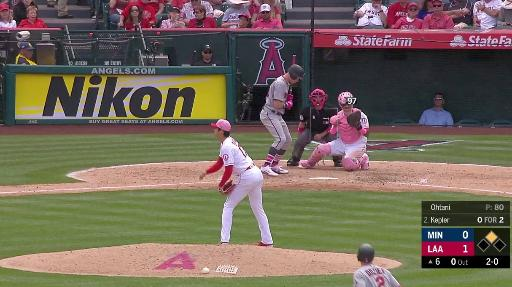pitcher: (199, 119, 276, 248)
